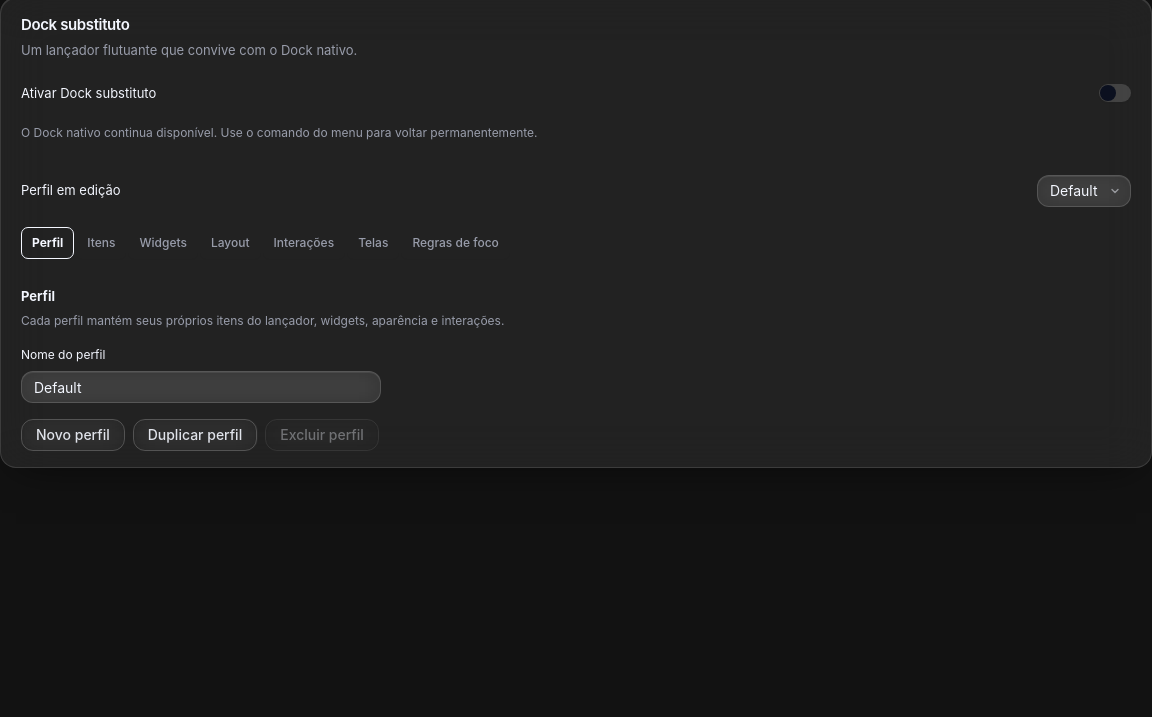
Test: ReplacementDock › renders localized magnification controls in pt-BR
The width and height of the screenshot is (1152, 717).
Click the button "Layout". click: x=230, y=243
box: [200, 227, 260, 259]
(page scrolled)
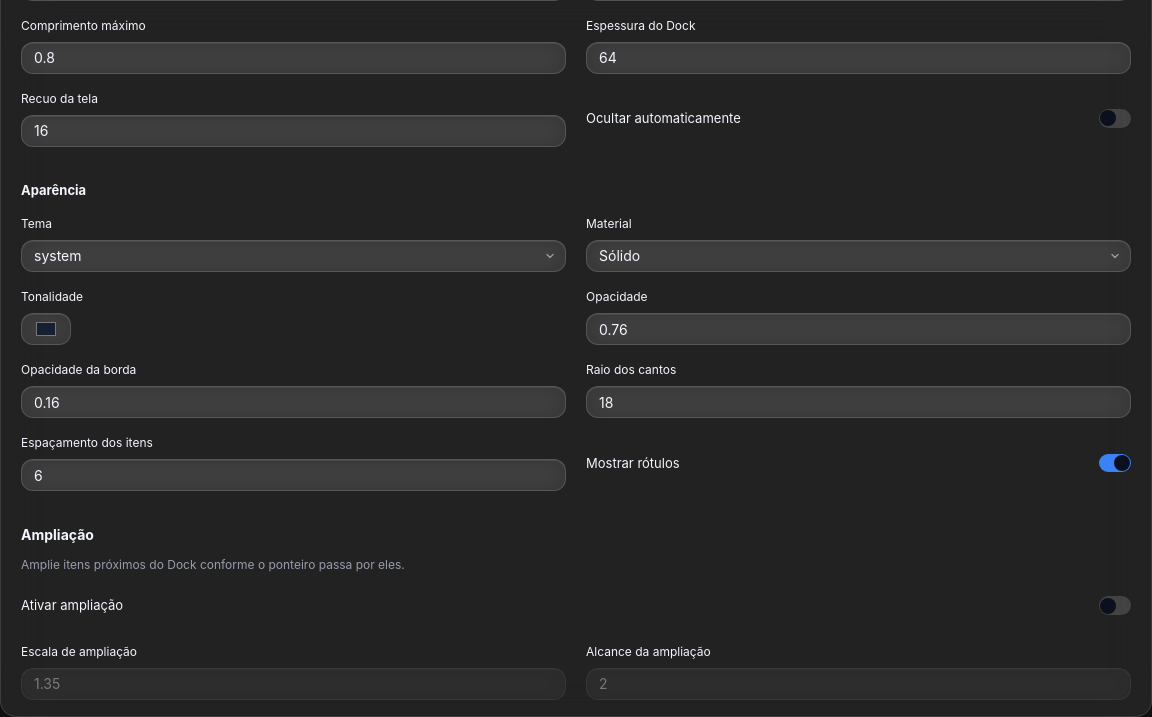
Now the text "Ativar ampliação" is shown, box [21, 596, 123, 615]
Now the text "Escala de ampliação" is shown, box [21, 644, 137, 659]
